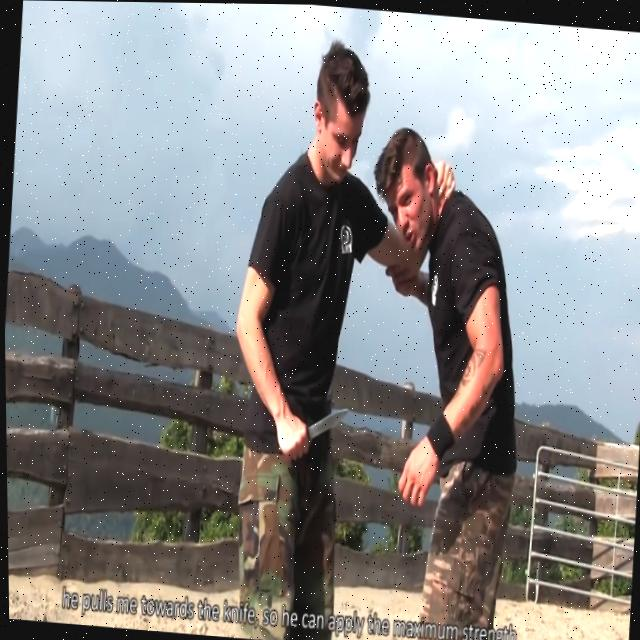knife: (299, 394, 351, 444)
